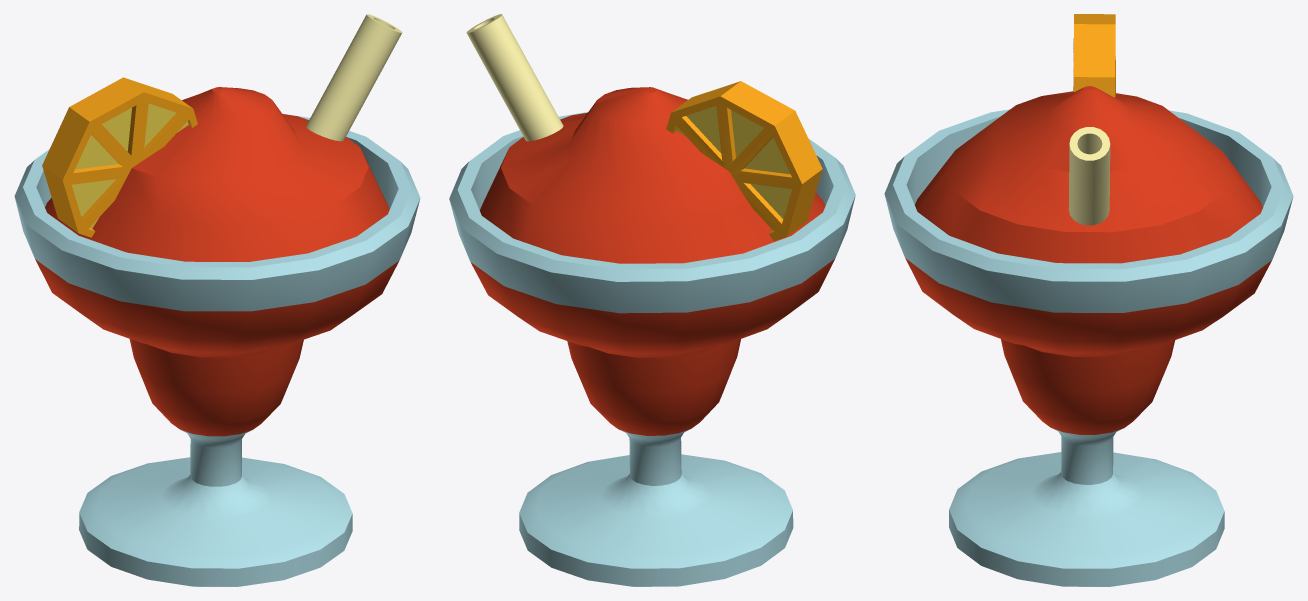
Rendered from Cocktail.gltf.
The picture shows the model from 3 angles, left to right: view 1: azimuth 30°, elevation 25°; view 2: azimuth 150°, elevation 25°; view 3: azimuth 270°, elevation 25°; orthographic projection.
Visible parts, largest first — view 1: CocktailRed; view 2: CocktailRed; view 3: CocktailRed.
Boxes of the visible parts, x1,y1,x2,y2 form: CocktailRed: [14, 14, 420, 586]; CocktailRed: [449, 14, 855, 586]; CocktailRed: [884, 14, 1293, 586].
Bounding box in the file's own units: 0.7606 × 0.9822 × 0.7528.
Materials: 1 (1 with a texture image).
